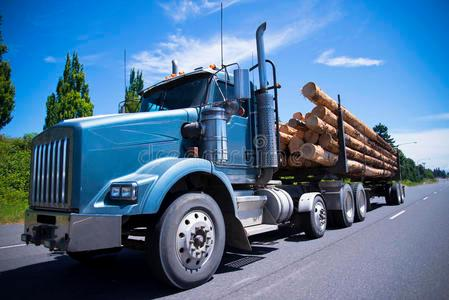卡车: (36, 49, 436, 289)
